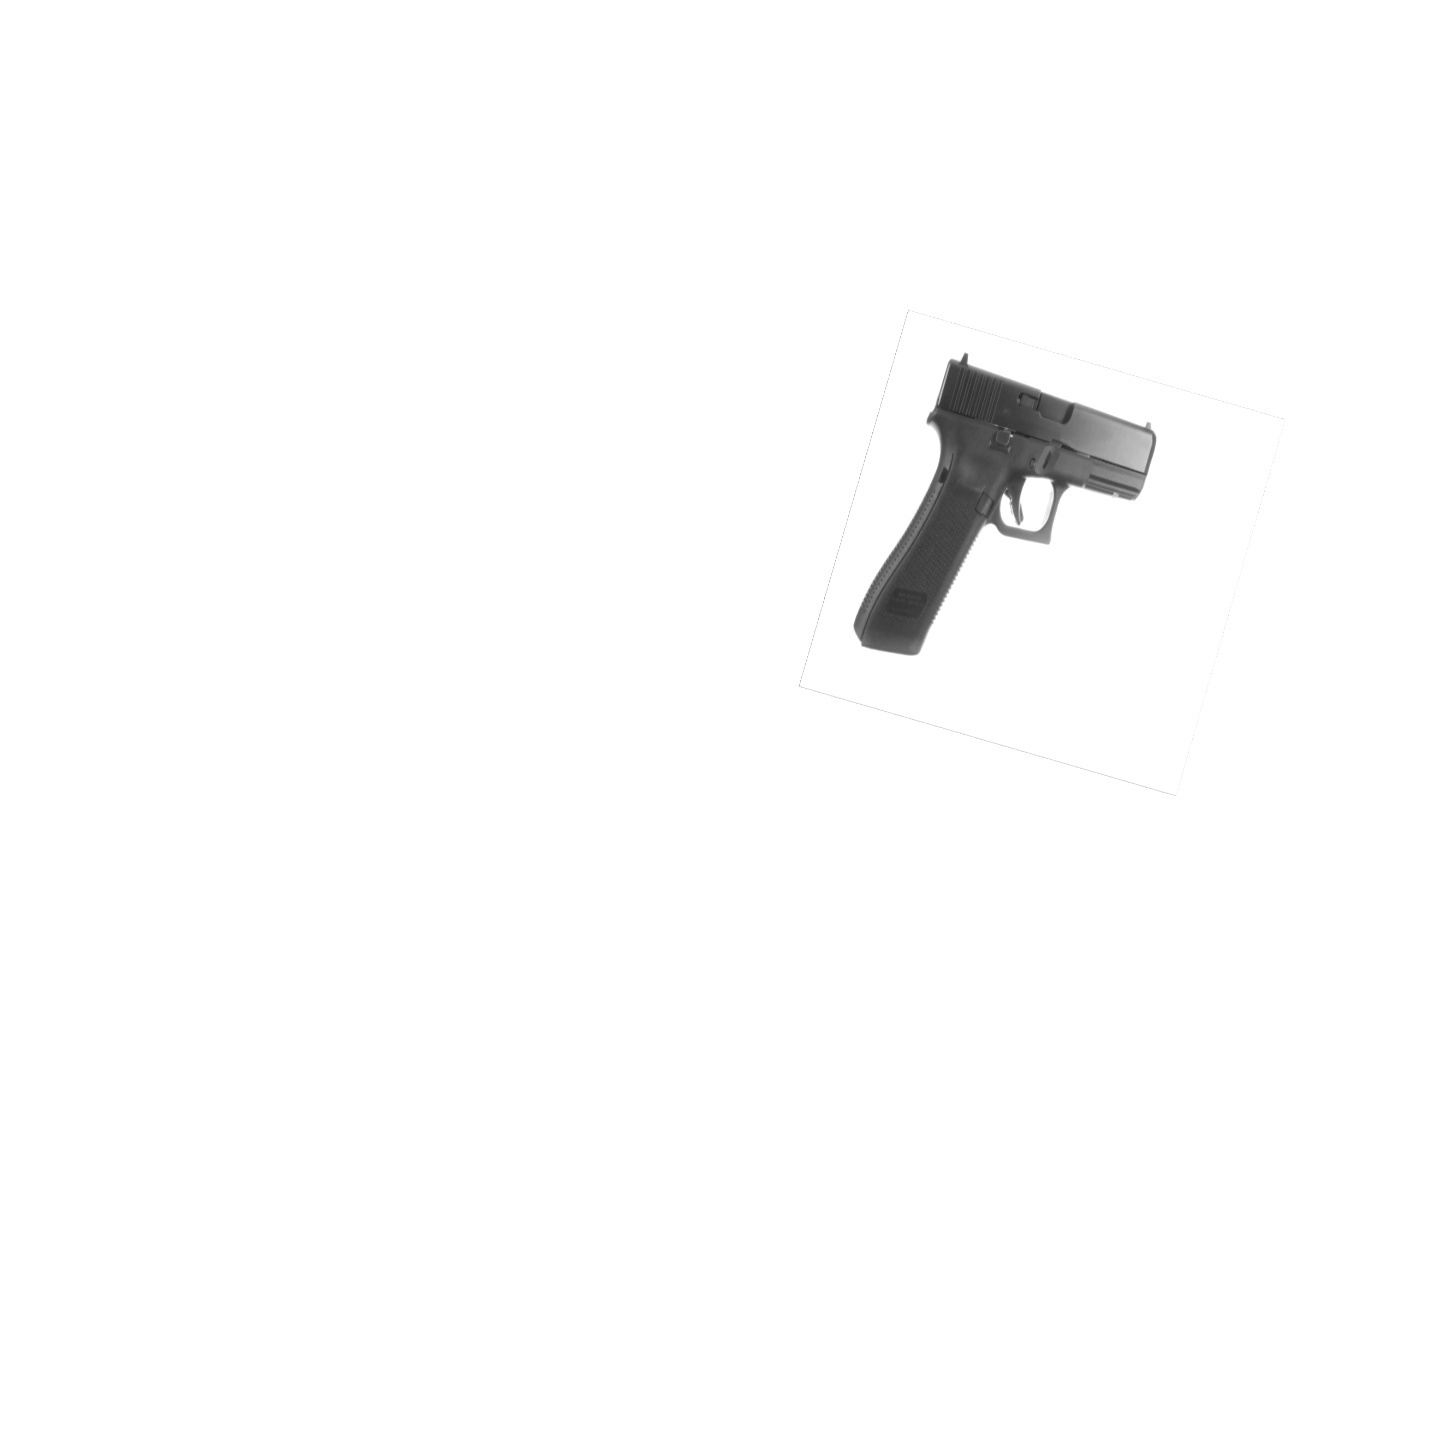gun: (847, 348, 1158, 656)
